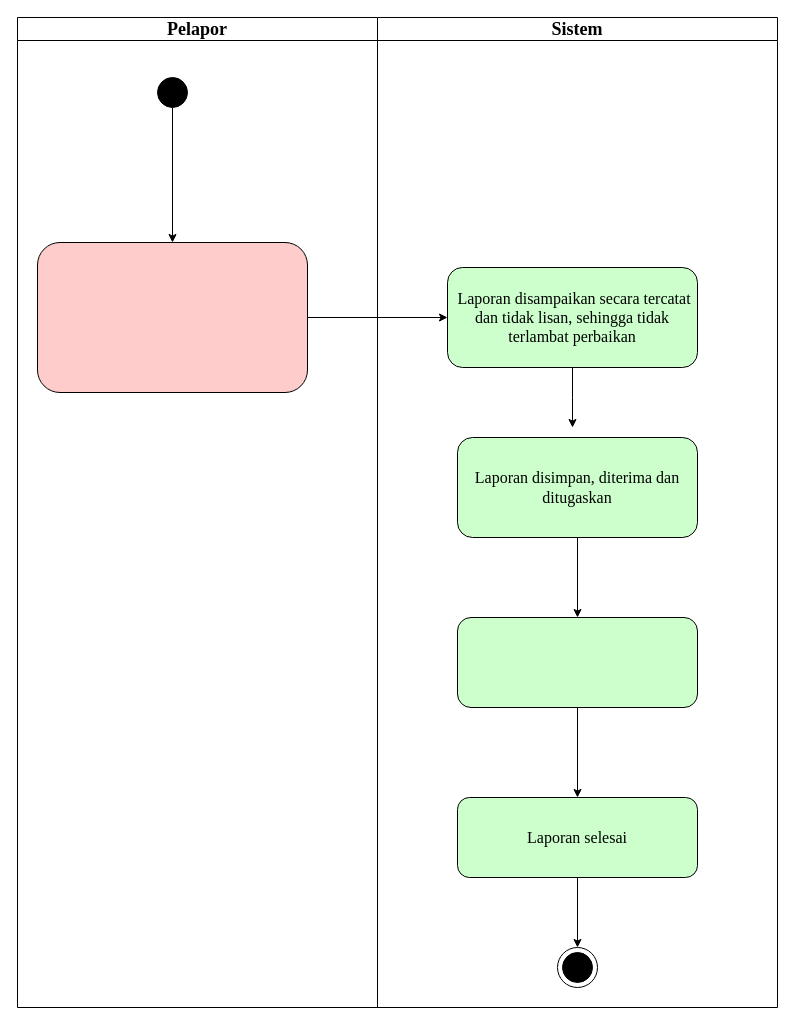
The diagram is 795 pixels wide and 1025 high, and some of its shapes have lost their labels. Each missing label, with the centre of its shape:
Pelapor membuat laporan terkait fasilitas yang rusak di kampus: the point at 172,317
Perbaikan sudah dilakukan: the point at 577,662
